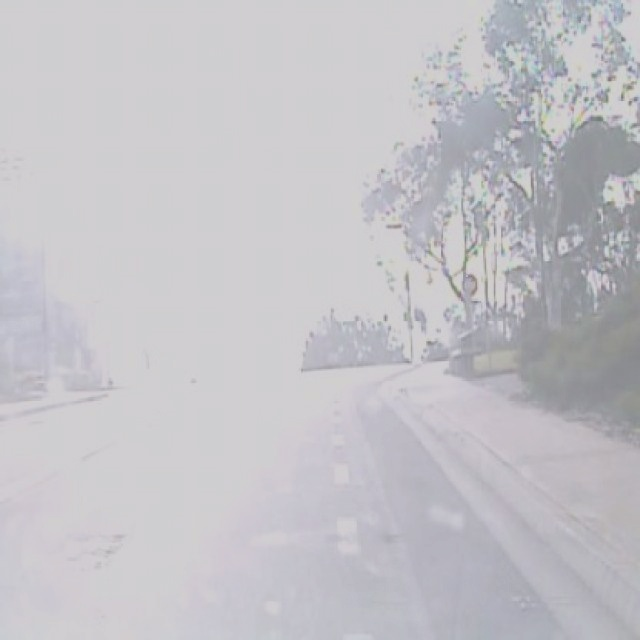stop: (462, 272, 478, 298)
